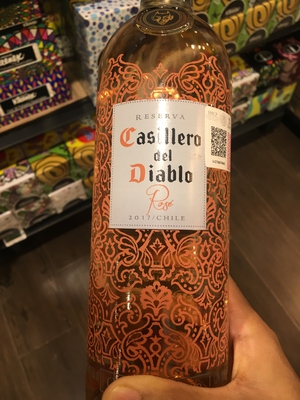casillero del diablo rose: (76, 10, 239, 381)
